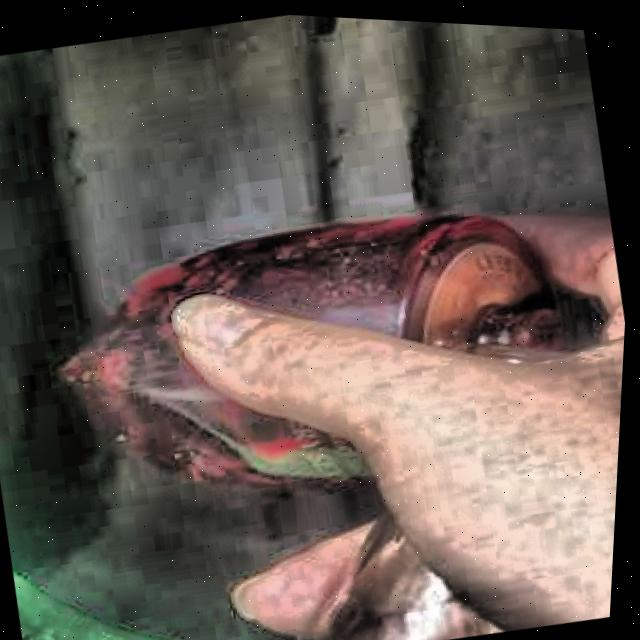glass: (69, 211, 567, 481)
